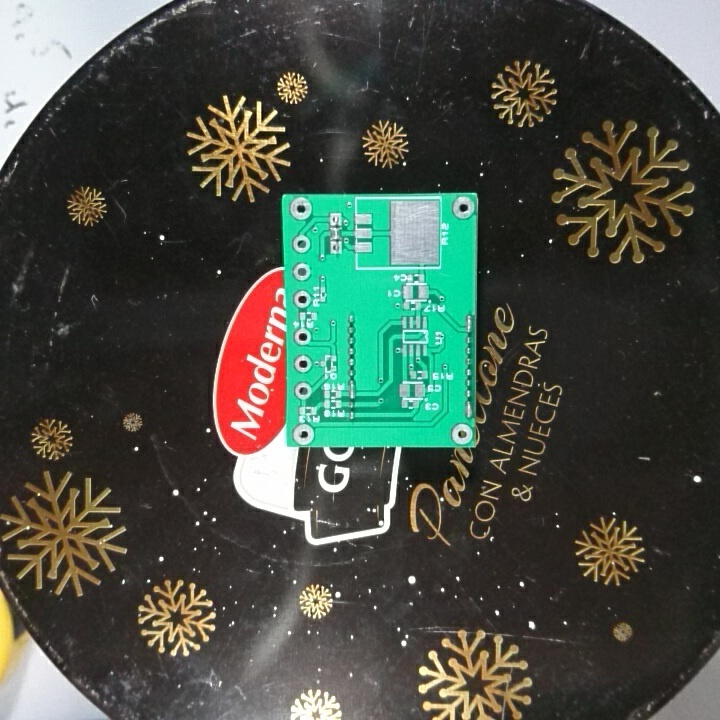F: (287, 195, 317, 225), (448, 194, 477, 223), (448, 420, 476, 446), (290, 420, 316, 446), (291, 324, 315, 351), (290, 230, 314, 256), (290, 258, 313, 284), (291, 288, 313, 312), (293, 378, 313, 403), (293, 352, 313, 375), (327, 238, 346, 260), (326, 209, 345, 229)
P: (463, 398, 477, 426), (346, 377, 360, 400), (463, 312, 474, 338)
